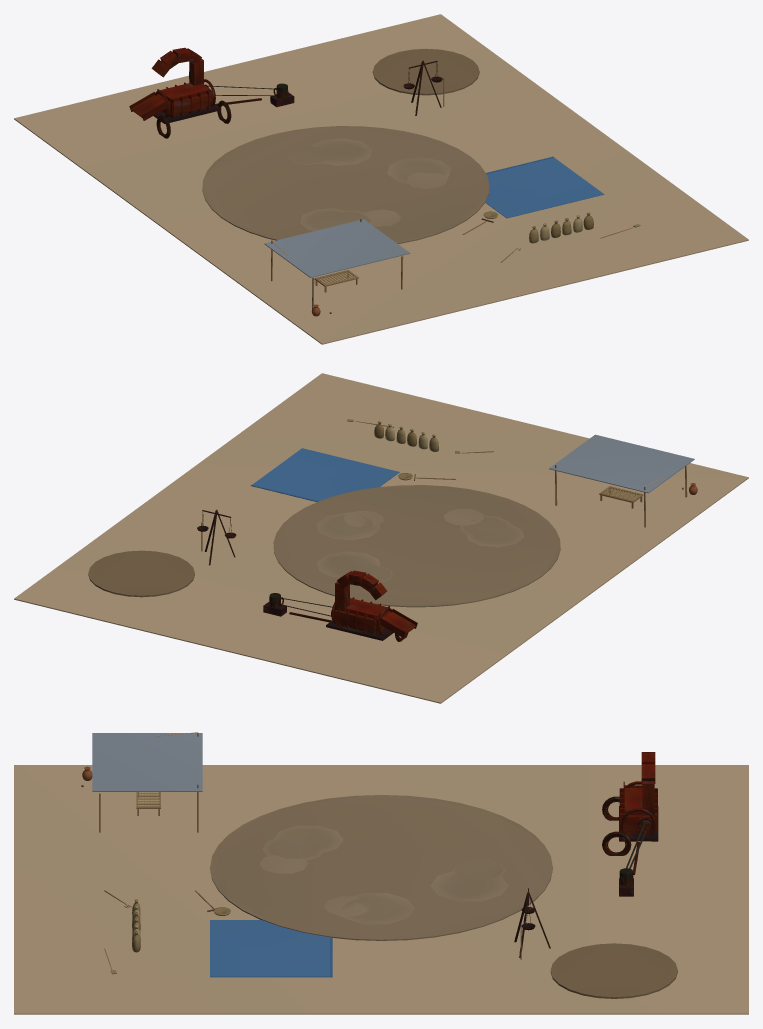
The model's file is khalihan_v2.glb.
3 views of the same model, one above another, from view 1: azimuth 30°, elevation 25°; view 2: azimuth 150°, elevation 25°; view 3: azimuth 270°, elevation 25° (orthographic). The views are drawn at different scales.
Visible parts, largest first — view 1: hb_main, hb_metal, hb_props; view 2: hb_main, hb_metal, hb_props; view 3: hb_main, hb_metal, hb_props.
Boxes of the visible parts, x1,y1,x2,y2 form: hb_main: [14, 14, 748, 344]; hb_metal: [129, 47, 520, 313]; hb_props: [271, 60, 632, 309]; hb_main: [14, 373, 748, 703]; hb_metal: [197, 451, 683, 641]; hb_props: [201, 421, 687, 565]; hb_main: [14, 733, 748, 1014]; hb_metal: [81, 752, 658, 930]; hb_props: [99, 732, 550, 969].
Bounding box in the file's own units: 24 × 3.79 × 30.
